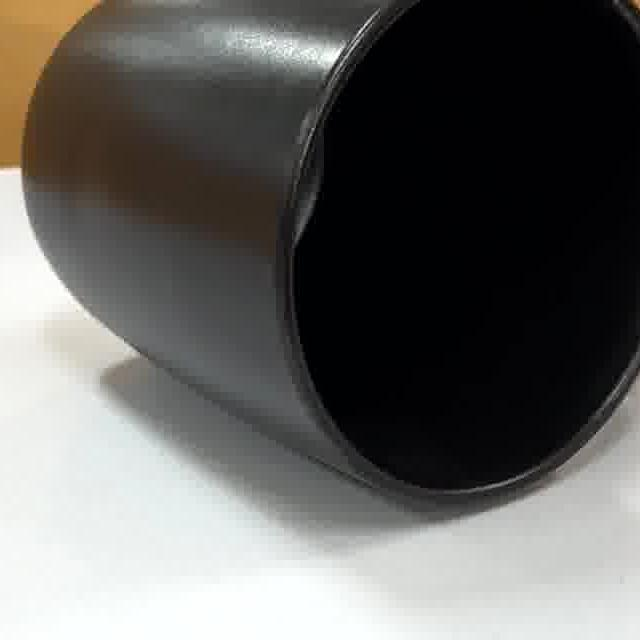cup: (26, 0, 640, 511)
